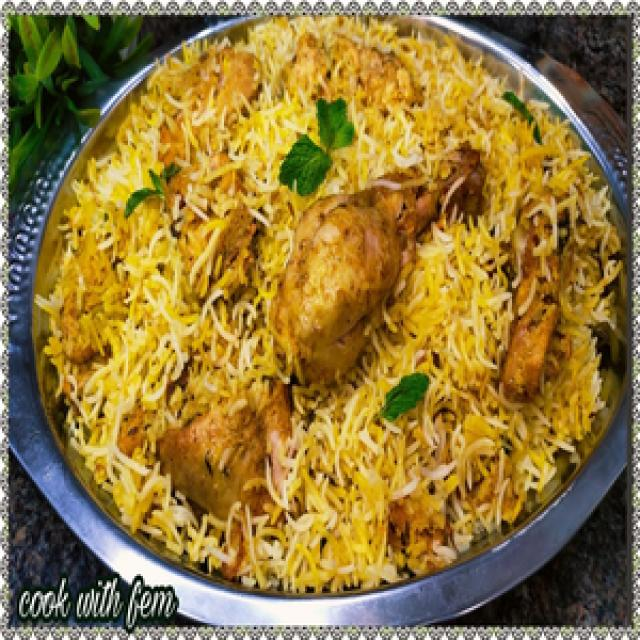chicken biriyani: (27, 6, 631, 611)
